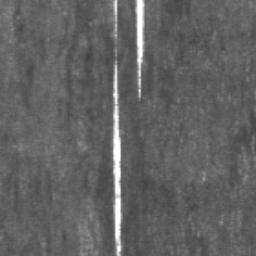Bright scratch: (114, 13, 121, 255), (135, 13, 143, 103)
